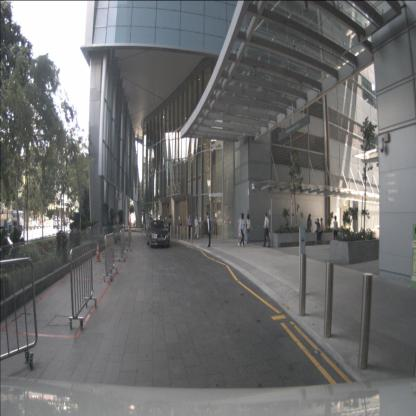cone: (94, 241, 102, 263)
